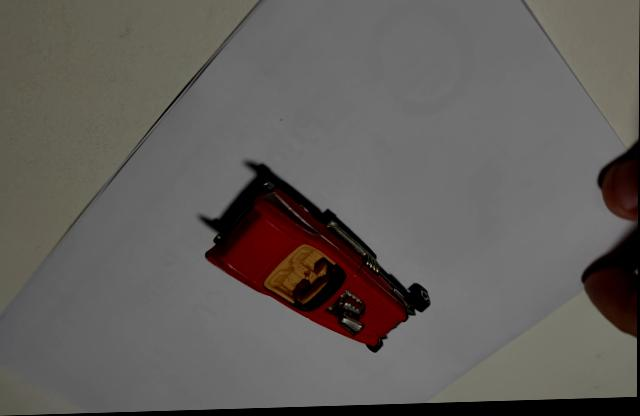03_V8: (199, 163, 431, 352)
